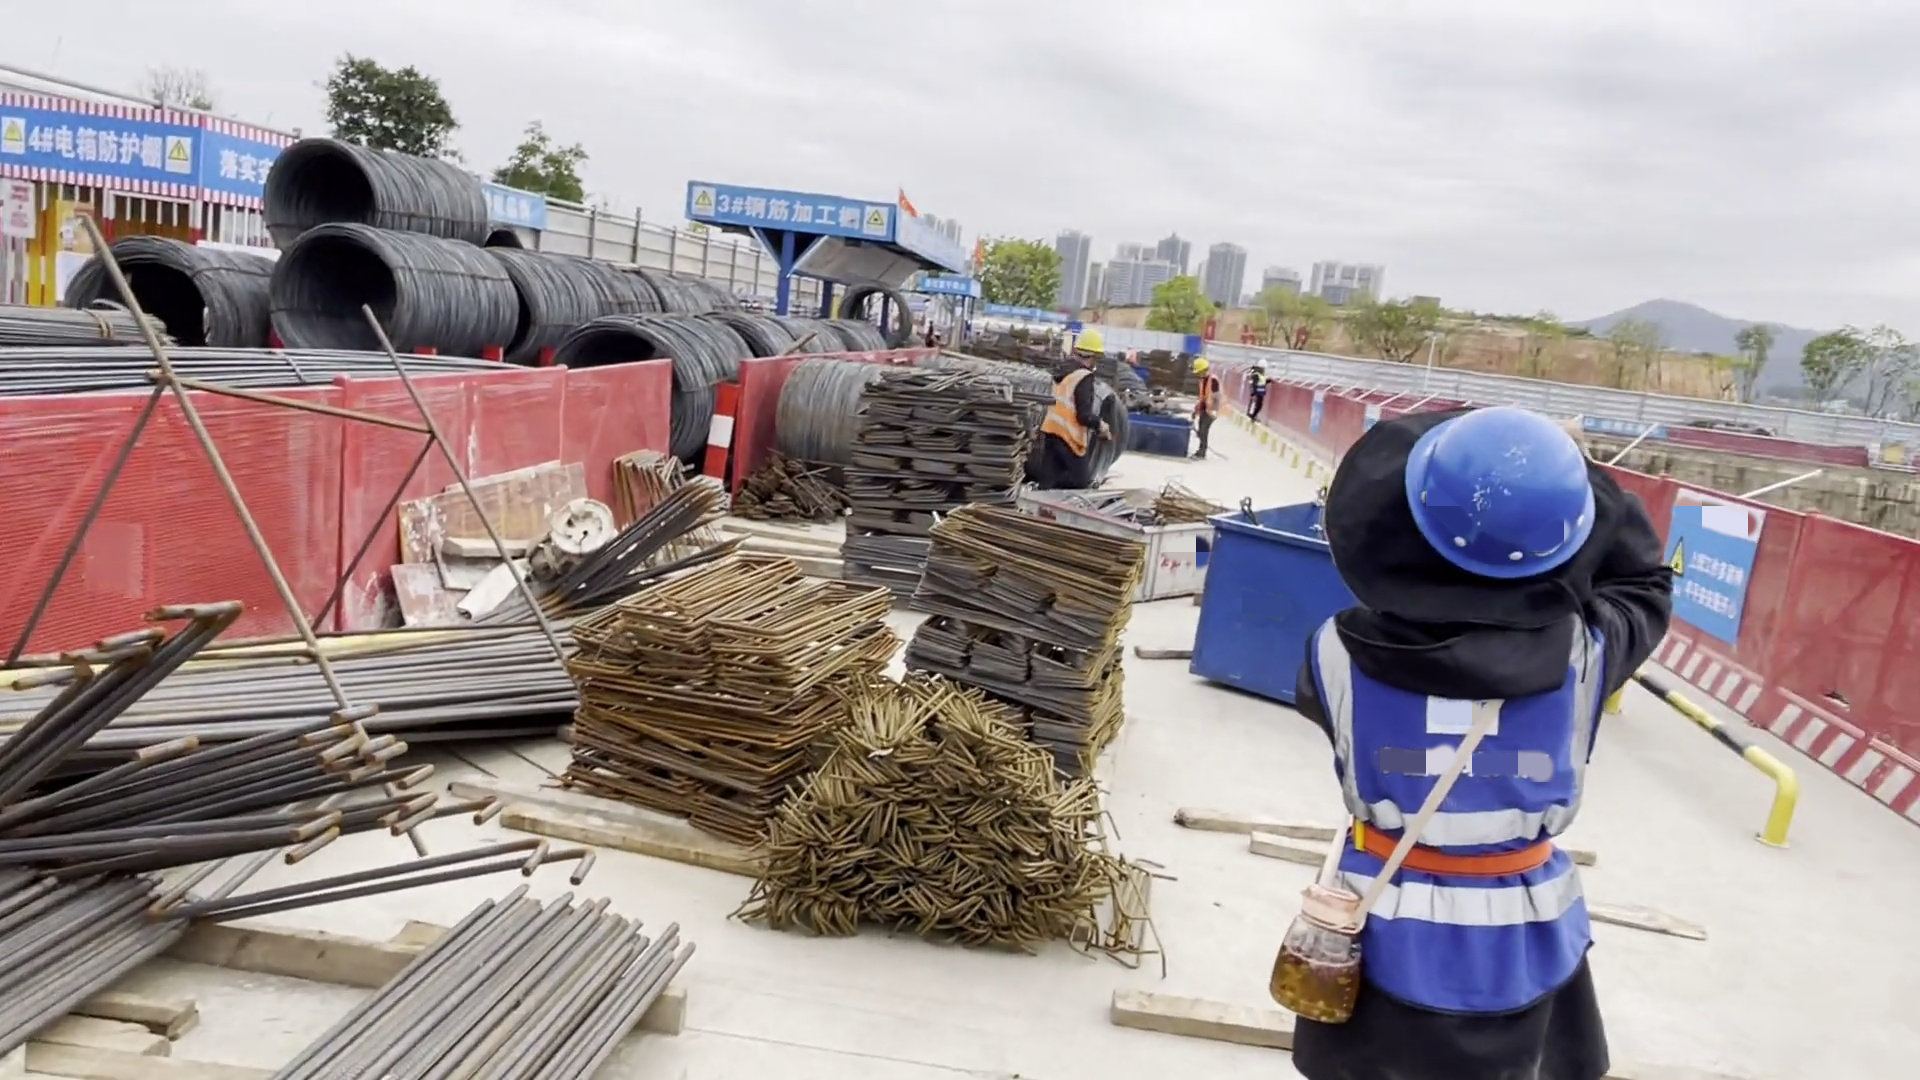fence: (1667, 481, 1920, 819), (490, 211, 737, 277)
helmet: (1402, 408, 1613, 572), (1071, 326, 1106, 354), (1193, 357, 1211, 374), (1255, 353, 1270, 369)
hopper: (1181, 513, 1353, 707), (1039, 487, 1217, 596), (1135, 403, 1191, 465)
person: (1287, 415, 1681, 1075), (1038, 317, 1117, 502), (1190, 354, 1233, 456), (1248, 349, 1282, 428)
rebar: (195, 884, 698, 1080), (1, 636, 581, 733)
slogan: (1667, 485, 1767, 617), (26, 124, 190, 193), (693, 195, 902, 233), (481, 183, 553, 231), (207, 136, 266, 193)
vest: (1342, 593, 1560, 886), (1043, 366, 1098, 444), (1195, 374, 1223, 415), (1252, 374, 1269, 408)
